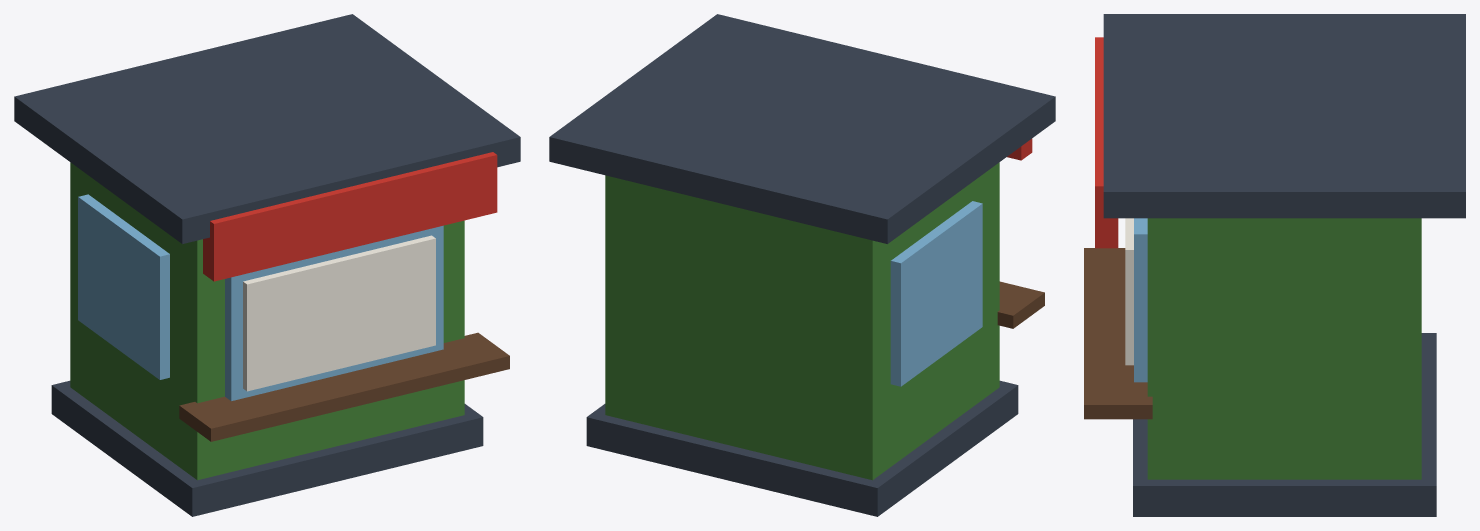
The model's file is cittaEdicola.glb.
3 renders of one model, left to right at view 1: azimuth 30°, elevation 25°; view 2: azimuth 150°, elevation 25°; view 3: azimuth 270°, elevation 25°, orthographic. The views are drawn at different scales.
Visible parts, largest first — view 1: cittaEdicola_steelDark, cittaEdicola_green, cittaEdicola_white, cittaEdicola_glass, cittaEdicola_red, cittaEdicola_bark; view 2: cittaEdicola_steelDark, cittaEdicola_green, cittaEdicola_glass, cittaEdicola_bark; view 3: cittaEdicola_steelDark, cittaEdicola_green, cittaEdicola_bark, cittaEdicola_red, cittaEdicola_glass, cittaEdicola_white.
Part boxes in pixels (bbox=[...]): cittaEdicola_steelDark: bbox=[14, 14, 520, 516]; cittaEdicola_green: bbox=[70, 162, 464, 480]; cittaEdicola_white: bbox=[243, 235, 435, 391]; cittaEdicola_glass: bbox=[78, 194, 443, 401]; cittaEdicola_red: bbox=[203, 152, 497, 281]; cittaEdicola_bark: bbox=[179, 332, 509, 441]; cittaEdicola_steelDark: bbox=[549, 14, 1055, 516]; cittaEdicola_green: bbox=[605, 162, 999, 480]; cittaEdicola_glass: bbox=[890, 201, 982, 386]; cittaEdicola_bark: bbox=[997, 281, 1044, 328]; cittaEdicola_steelDark: bbox=[1103, 14, 1465, 516]; cittaEdicola_green: bbox=[1147, 218, 1421, 479]; cittaEdicola_bark: bbox=[1084, 248, 1152, 419]; cittaEdicola_red: bbox=[1095, 37, 1118, 248]; cittaEdicola_glass: bbox=[1134, 218, 1147, 382]; cittaEdicola_white: bbox=[1125, 218, 1133, 365].
Size of the model in its own units: 4.3 by 3.81 by 3.9.
